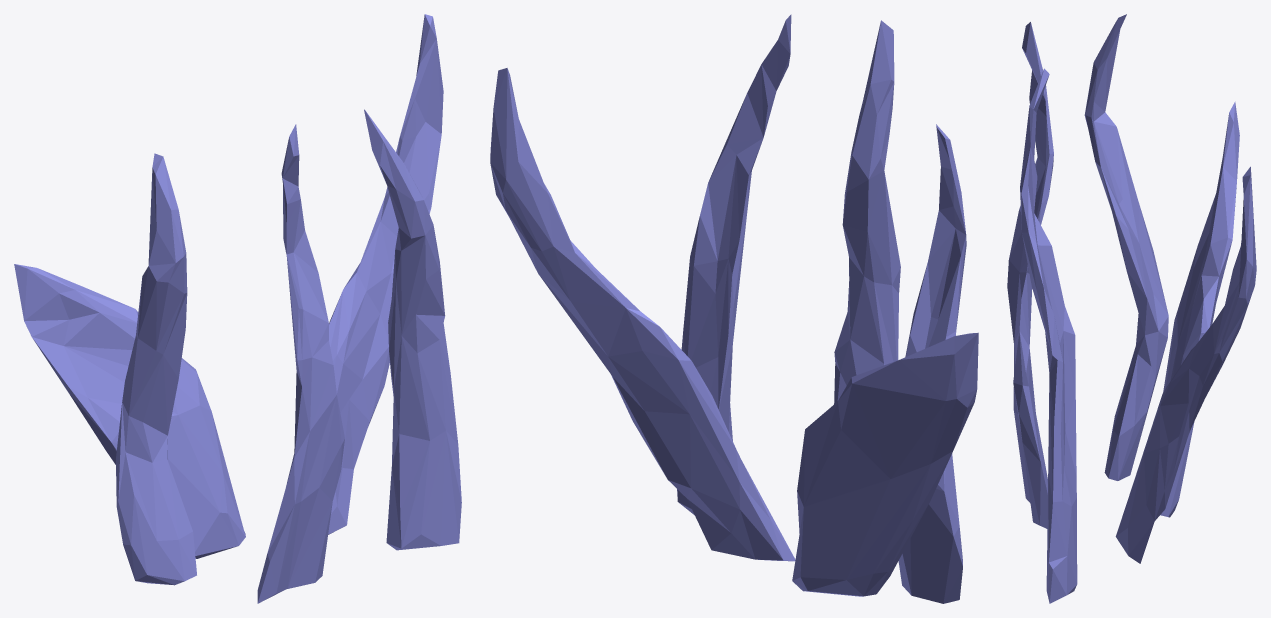
File: Plant1.fbx
The picture shows the model from 3 angles, left to right: view 1: azimuth 30°, elevation 25°; view 2: azimuth 150°, elevation 25°; view 3: azimuth 270°, elevation 25°; orthographic projection. The views are drawn at different scales.
Visible parts, largest first — view 1: pasted__pasted__pasted__pCube14; view 2: pasted__pasted__pasted__pCube14; view 3: pasted__pasted__pasted__pCube14.
Boxes of the visible parts, x1=… form: pasted__pasted__pasted__pCube14: x1=14, y1=14, x2=461, y2=603; pasted__pasted__pasted__pCube14: x1=490, y1=14, x2=978, y2=603; pasted__pasted__pasted__pCube14: x1=1007, y1=14, x2=1256, y2=603.
Bounding box in the file's own units: 3.41 × 3.52 × 1.61.
